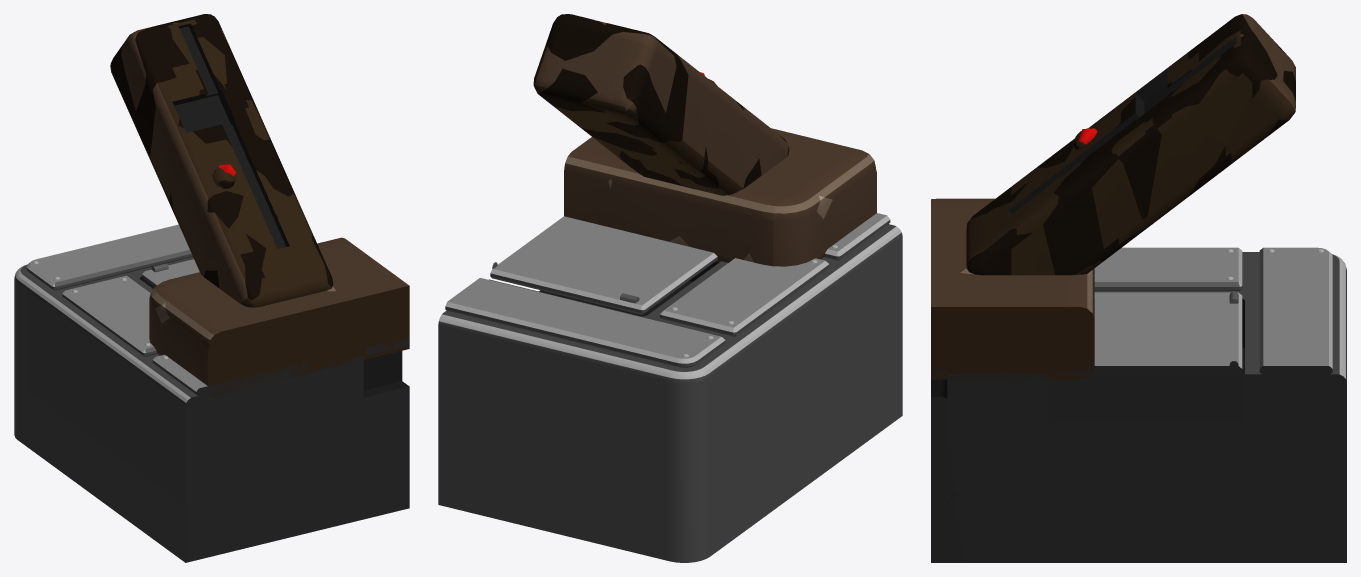
File: bronze_pump_tl_wreck.glb
3 renders of one model, left to right at view 1: azimuth 30°, elevation 25°; view 2: azimuth 150°, elevation 25°; view 3: azimuth 270°, elevation 25°, orthographic. The views are drawn at different scales.
Parts seen in each view (by area): view 1: bronze_pump_tl_wreck; view 2: bronze_pump_tl_wreck; view 3: bronze_pump_tl_wreck.
Boxes of the visible parts, x1=… form: bronze_pump_tl_wreck: x1=14, y1=14, x2=409, y2=562; bronze_pump_tl_wreck: x1=438, y1=14, x2=902, y2=562; bronze_pump_tl_wreck: x1=931, y1=14, x2=1346, y2=562.
Size of the model in its own units: 20 by 35.02 by 27.95.
